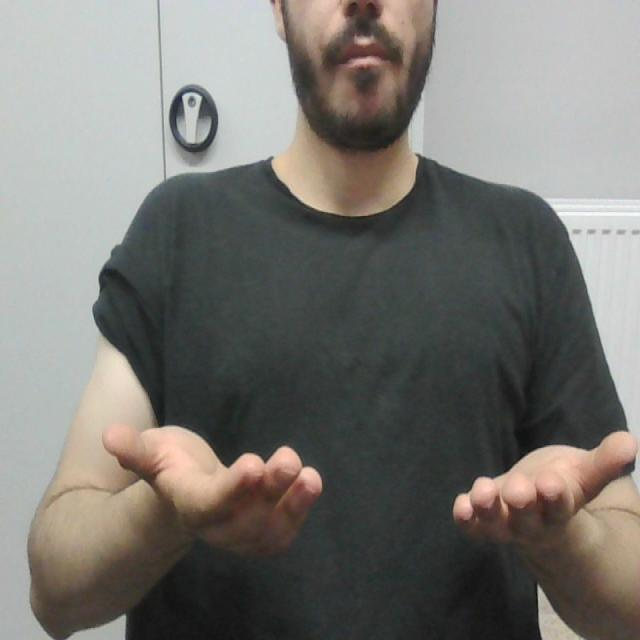Evet: (101, 420, 640, 560)
